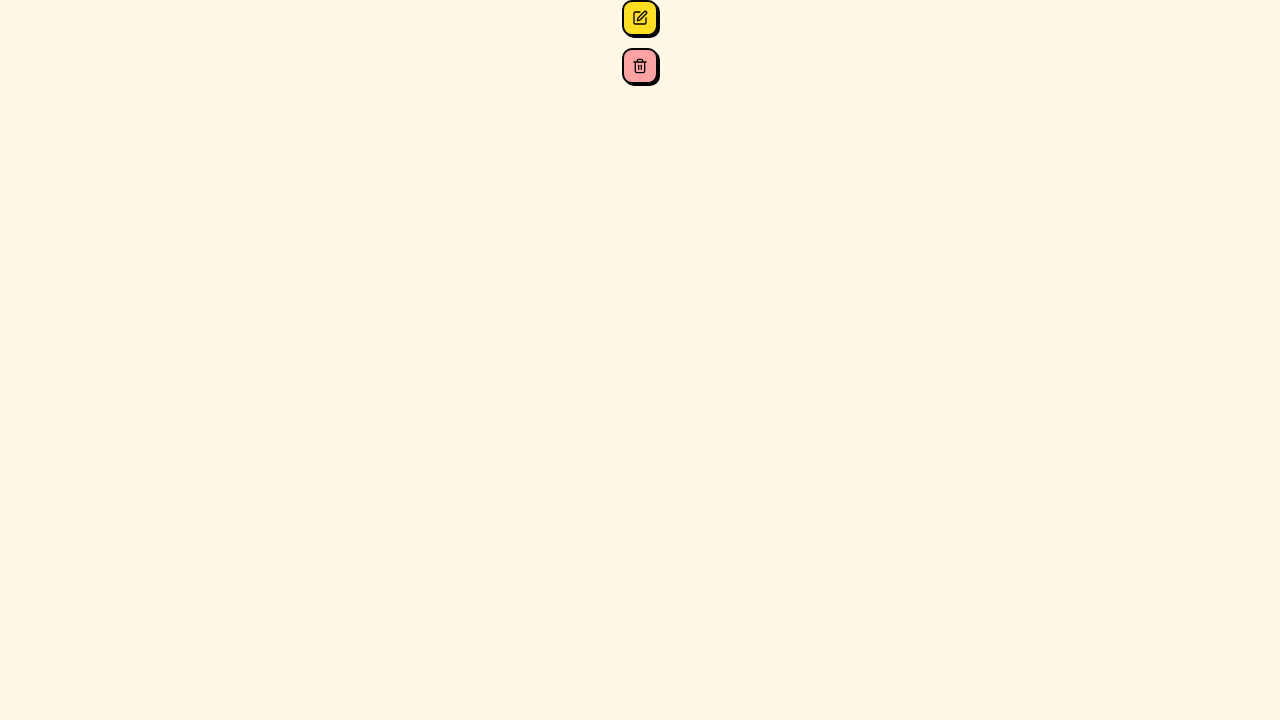
Test case: FieldEdit › opens edit field popover when clicked
Click the button named "edit field".
click(640, 18)  # box [622,0,658,36]
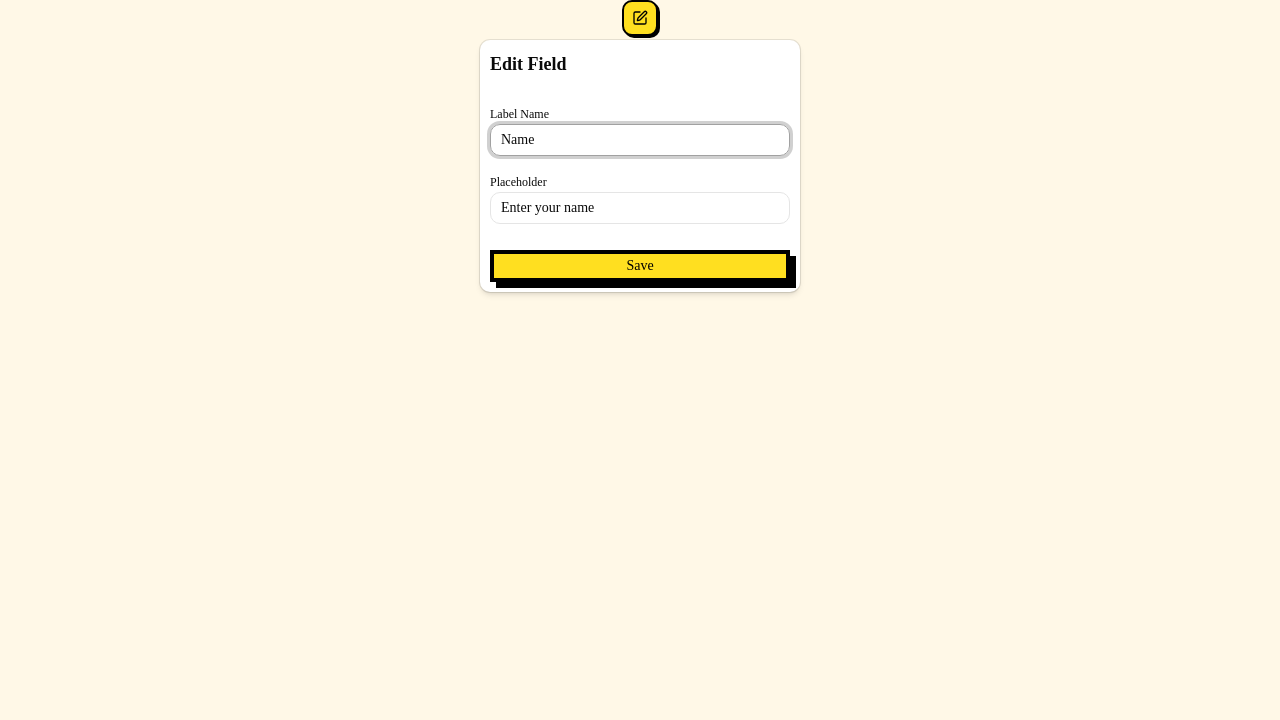
Check: the heading "Edit Field" is shown, box [490,54,566,74]
Check: the field showing "Name" below "Label Name" is shown, box [490,124,790,156]
Check: the field showing "Enter your name" below "Placeholder" is shown, box [490,192,790,224]
